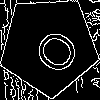O: (24, 20, 83, 79)
